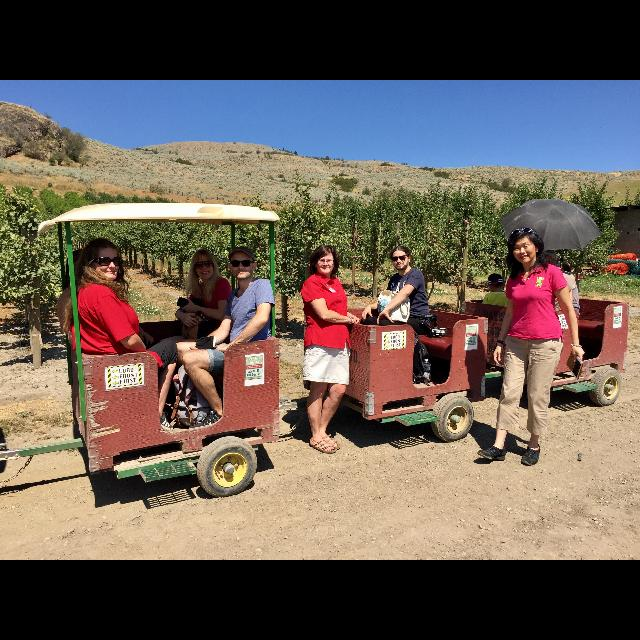head: (80, 238, 120, 282), (512, 229, 540, 265), (228, 247, 258, 280), (193, 249, 215, 279), (314, 246, 336, 274), (391, 246, 412, 270), (488, 274, 504, 292)
person: (476, 226, 586, 466), (56, 236, 180, 442), (172, 246, 276, 434), (158, 249, 238, 417), (300, 243, 360, 455), (359, 245, 431, 383), (480, 273, 514, 357)
